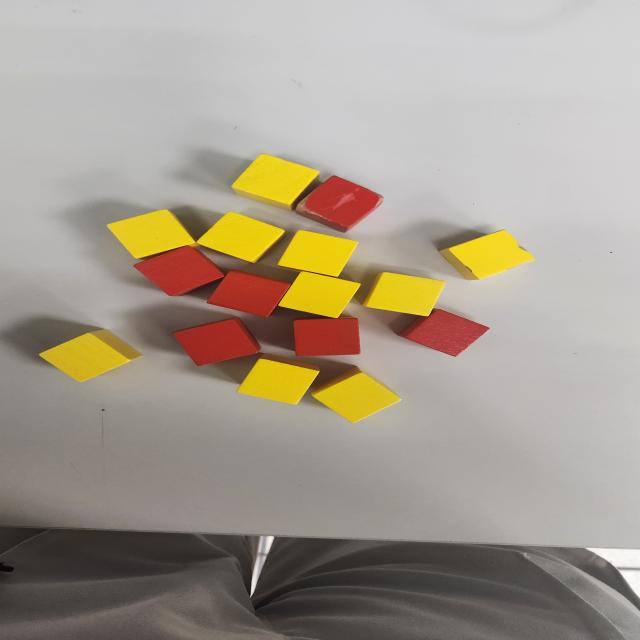broken: (437, 228, 538, 281), (294, 175, 384, 231)
red: (134, 246, 225, 296), (400, 308, 490, 357), (172, 318, 262, 366), (205, 270, 292, 316), (293, 318, 360, 356)
yellow: (41, 329, 144, 382), (231, 154, 320, 210), (314, 370, 402, 424), (196, 212, 285, 262), (106, 210, 195, 260), (276, 270, 362, 316), (236, 358, 320, 404), (277, 230, 358, 276), (364, 272, 446, 316)
